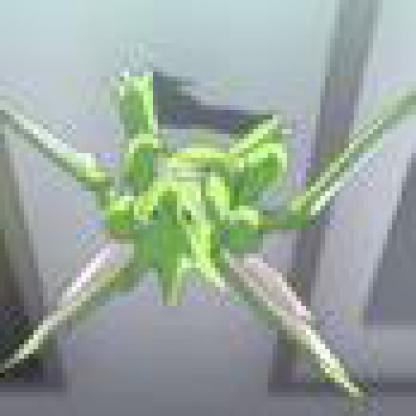Scyther: (1, 1, 412, 412)
